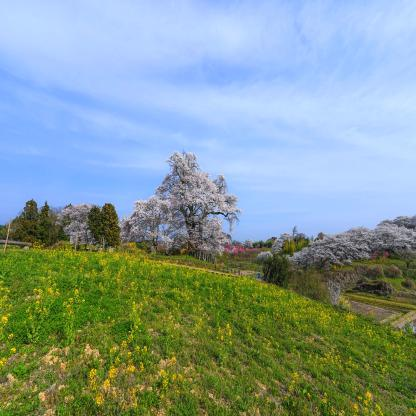EdohiganSakura: (118, 150, 242, 256)
